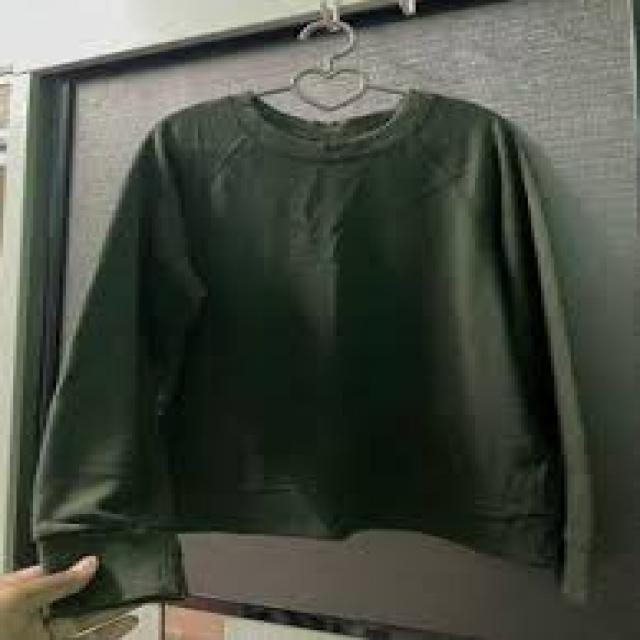plain: (56, 96, 592, 605)
